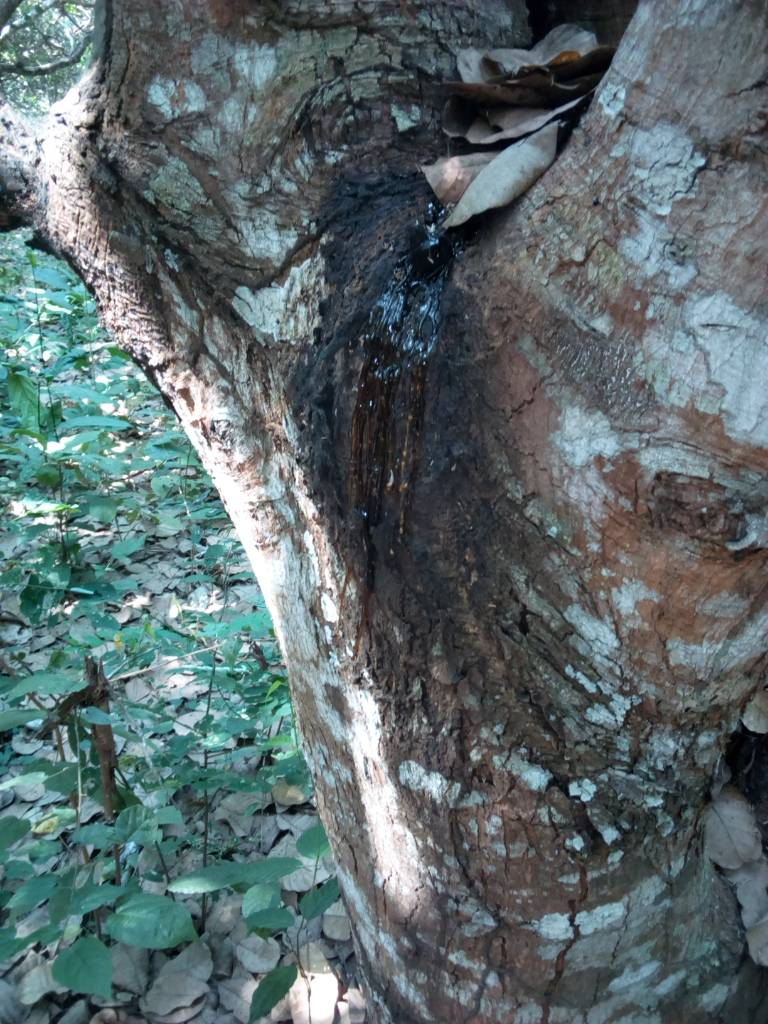Mecocorynus longiceps: (289, 198, 514, 644)
